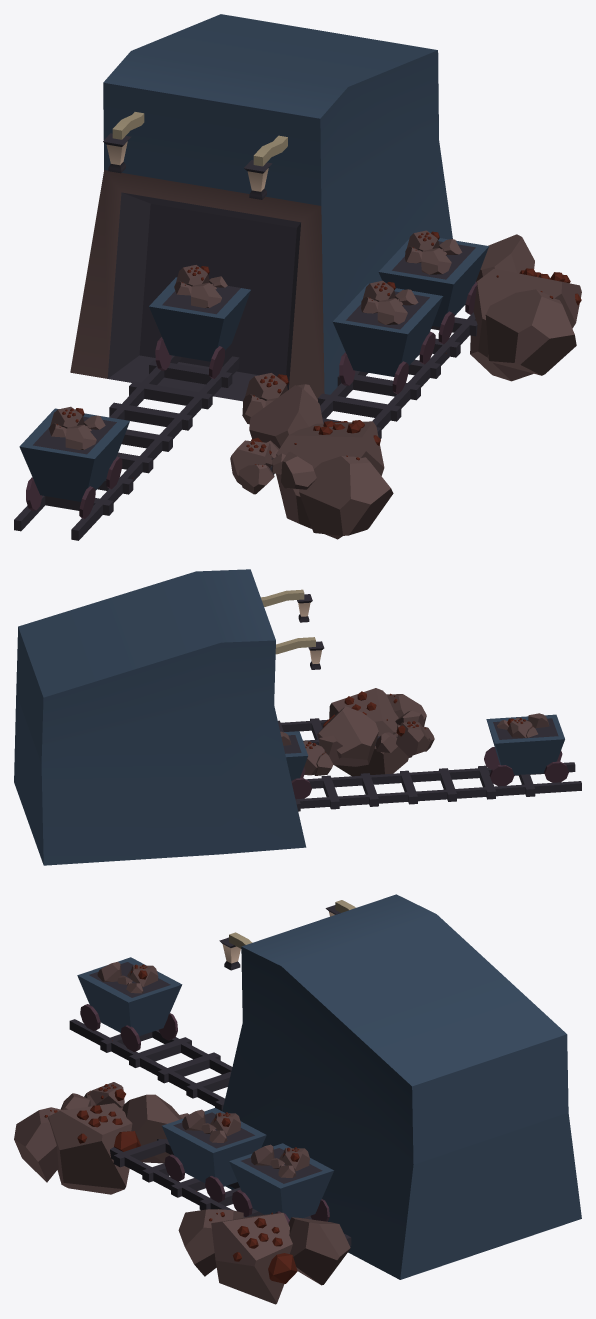
Rendered from Resource_Stone_002.fbx.
The picture shows the model from 3 angles, top to bottom: view 1: azimuth 30°, elevation 25°; view 2: azimuth 150°, elevation 25°; view 3: azimuth 270°, elevation 25°; orthographic projection. The views are drawn at different scales.
Visible parts, largest first — view 1: Resource_Stone_002; view 2: Resource_Stone_002; view 3: Resource_Stone_002.
Boxes of the visible parts, <box> form: Resource_Stone_002: <box>14,14,581,540</box>; Resource_Stone_002: <box>14,569,581,865</box>; Resource_Stone_002: <box>14,894,581,1304</box>.
Size of the model in its own units: 772 by 380 by 688.
